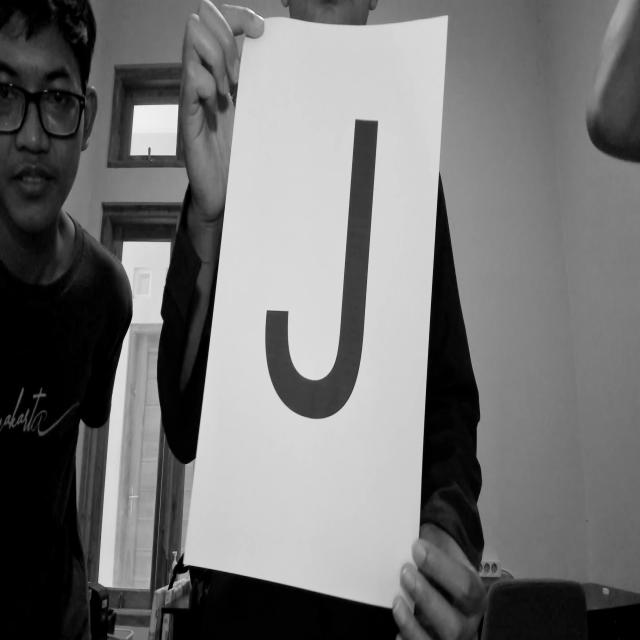j: (259, 111, 406, 445)
